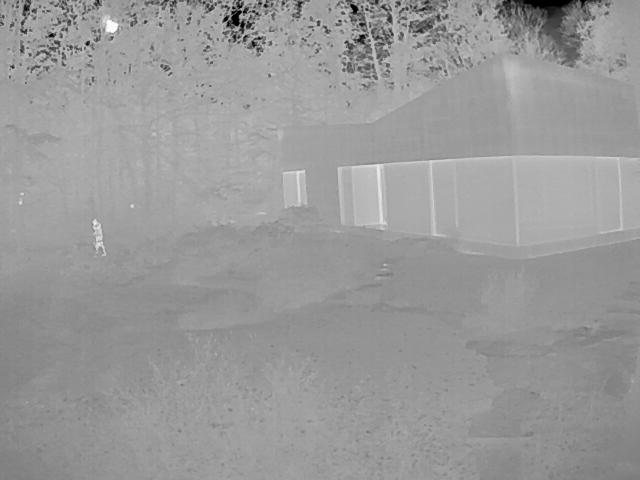person: (91, 216, 110, 258)
